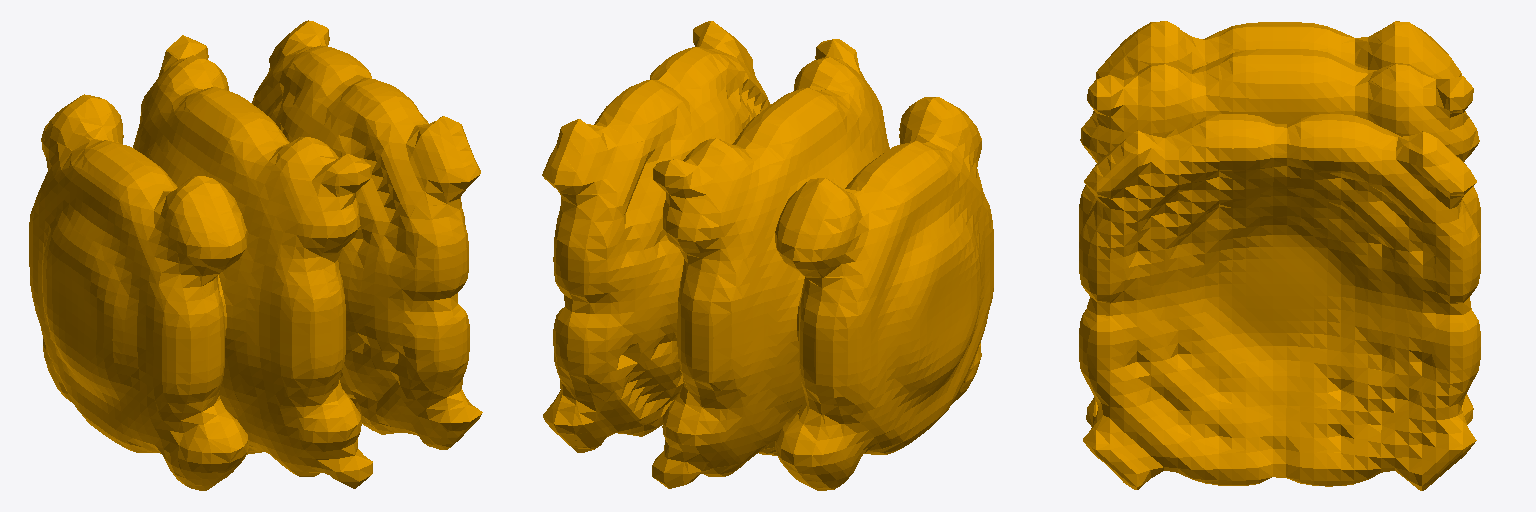
The robot description file, URDF, robot "object":
<?xml version="1.0"?>
<robot name="object">
  <link name="object">
    <visual>
      <origin xyz="0 0 0"/>
      <geometry>
        <mesh filename="meshes/subset_100_scaled/egad_O19_0_s.obj" scale=".03 .03 .03"/>
      </geometry>
    </visual>
    <collision>
  <origin xyz="0 0 0"/>
  <geometry>
    <mesh filename="meshes/subset_100_scaled/egad_O19_0_s_0decompose.obj" scale=".03 .03 .03"/>
<!--          <mesh filename="meshes/custom/obj0_ball.obj" scale=".05 .05 .05"/>-->
  </geometry>
</collision><collision>
  <origin xyz="0 0 0"/>
  <geometry>
    <mesh filename="meshes/subset_100_scaled/egad_O19_0_s_1decompose.obj" scale=".03 .03 .03"/>
<!--          <mesh filename="meshes/custom/obj0_ball.obj" scale=".05 .05 .05"/>-->
  </geometry>
</collision><collision>
  <origin xyz="0 0 0"/>
  <geometry>
    <mesh filename="meshes/subset_100_scaled/egad_O19_0_s_2decompose.obj" scale=".03 .03 .03"/>
<!--          <mesh filename="meshes/custom/obj0_ball.obj" scale=".05 .05 .05"/>-->
  </geometry>
</collision><collision>
  <origin xyz="0 0 0"/>
  <geometry>
    <mesh filename="meshes/subset_100_scaled/egad_O19_0_s_3decompose.obj" scale=".03 .03 .03"/>
<!--          <mesh filename="meshes/custom/obj0_ball.obj" scale=".05 .05 .05"/>-->
  </geometry>
</collision><collision>
  <origin xyz="0 0 0"/>
  <geometry>
    <mesh filename="meshes/subset_100_scaled/egad_O19_0_s_4decompose.obj" scale=".03 .03 .03"/>
<!--          <mesh filename="meshes/custom/obj0_ball.obj" scale=".05 .05 .05"/>-->
  </geometry>
</collision><collision>
  <origin xyz="0 0 0"/>
  <geometry>
    <mesh filename="meshes/subset_100_scaled/egad_O19_0_s_5decompose.obj" scale=".03 .03 .03"/>
<!--          <mesh filename="meshes/custom/obj0_ball.obj" scale=".05 .05 .05"/>-->
  </geometry>
</collision><collision>
  <origin xyz="0 0 0"/>
  <geometry>
    <mesh filename="meshes/subset_100_scaled/egad_O19_0_s_6decompose.obj" scale=".03 .03 .03"/>
<!--          <mesh filename="meshes/custom/obj0_ball.obj" scale=".05 .05 .05"/>-->
  </geometry>
</collision><collision>
  <origin xyz="0 0 0"/>
  <geometry>
    <mesh filename="meshes/subset_100_scaled/egad_O19_0_s_7decompose.obj" scale=".03 .03 .03"/>
<!--          <mesh filename="meshes/custom/obj0_ball.obj" scale=".05 .05 .05"/>-->
  </geometry>
</collision>

<!--    <collision>-->
<!--      <origin xyz="0 0 0"/>-->
<!--      <geometry>-->
<!--        <mesh filename="meshes/subset_100_scaled/egad_O19_0_s.obj" scale=".03 .03 .03"/>-->
<!--&lt;!&ndash;          <mesh filename="meshes/custom/obj0_ball.obj" scale=".05 .05 .05"/>&ndash;&gt;-->
<!--      </geometry>-->
<!--    </collision>-->
    <inertial>
      <density value="1000.0"/>
    </inertial>
  </link>
</robot>

--- What the picture shows (computed from the rendered views, not written in the file) ---
The picture shows the robot from 3 angles, left to right: view 1: azimuth 30°, elevation 25°; view 2: azimuth 150°, elevation 25°; view 3: azimuth 270°, elevation 25°; orthographic projection.
Robot: object — 1 links, 0 joints (none); root link object; default pose: every joint at zero.
Links seen in each view (by area): view 1: object; view 2: object; view 3: object.
Link boxes in pixels (left/top/right/bottom): object: left=29, top=20, right=482, bottom=490; object: left=542, top=21, right=993, bottom=490; object: left=1079, top=21, right=1480, bottom=490.
Bounding box of the posed robot: 0.06 × 0.06 × 0.06 m (x, y, z).
Meshes: 1 distinct files referenced, 1 mesh visuals loaded (1 OBJ).
